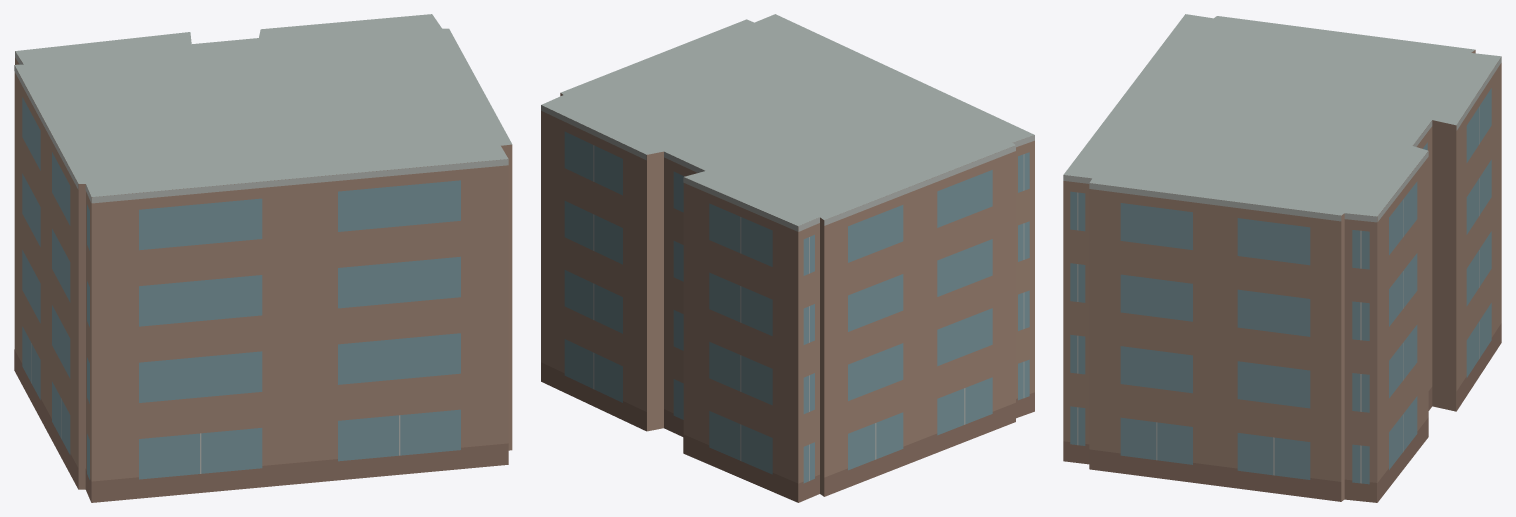
Rendered from survey-upis-33016623.glb.
The picture shows the model from 3 angles, left to right: view 1: azimuth 30°, elevation 25°; view 2: azimuth 150°, elevation 25°; view 3: azimuth 270°, elevation 25°; orthographic projection. The views are drawn at different scales.
Visible parts, largest first — view 1: survey-upis-33016623.tmp; view 2: survey-upis-33016623.tmp; view 3: survey-upis-33016623.tmp.
Boxes of the visible parts, left/top/right/bottom form: survey-upis-33016623.tmp: left=14, top=14, right=512, bottom=502; survey-upis-33016623.tmp: left=541, top=14, right=1034, bottom=502; survey-upis-33016623.tmp: left=1063, top=14, right=1501, bottom=502.
Bounding box in the file's own units: 17.91 × 11.8 × 16.38.
